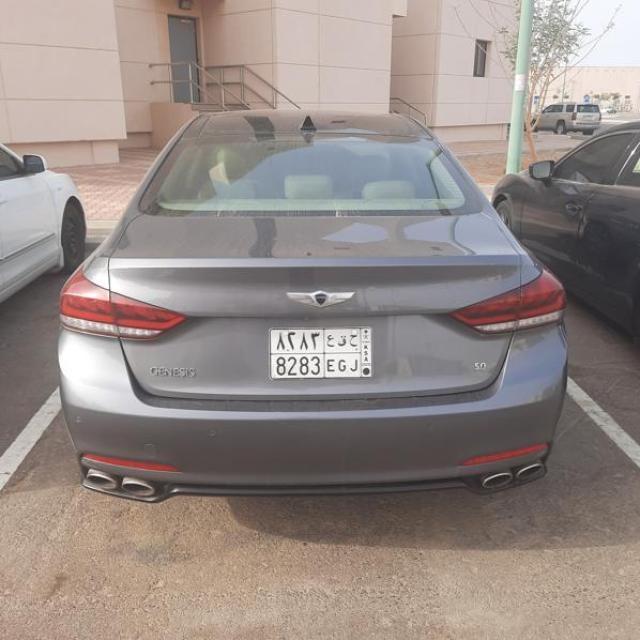license_plate: (267, 330, 375, 380)
